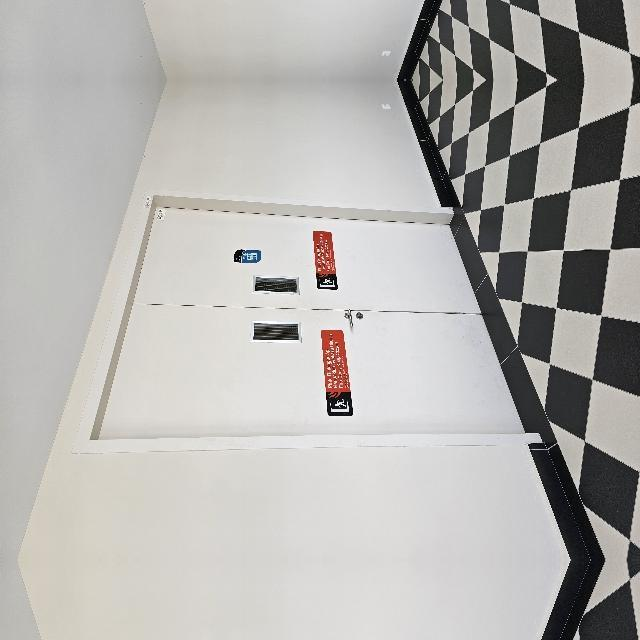door: (92, 146, 386, 618), (92, 501, 386, 640), (92, 0, 386, 14)
